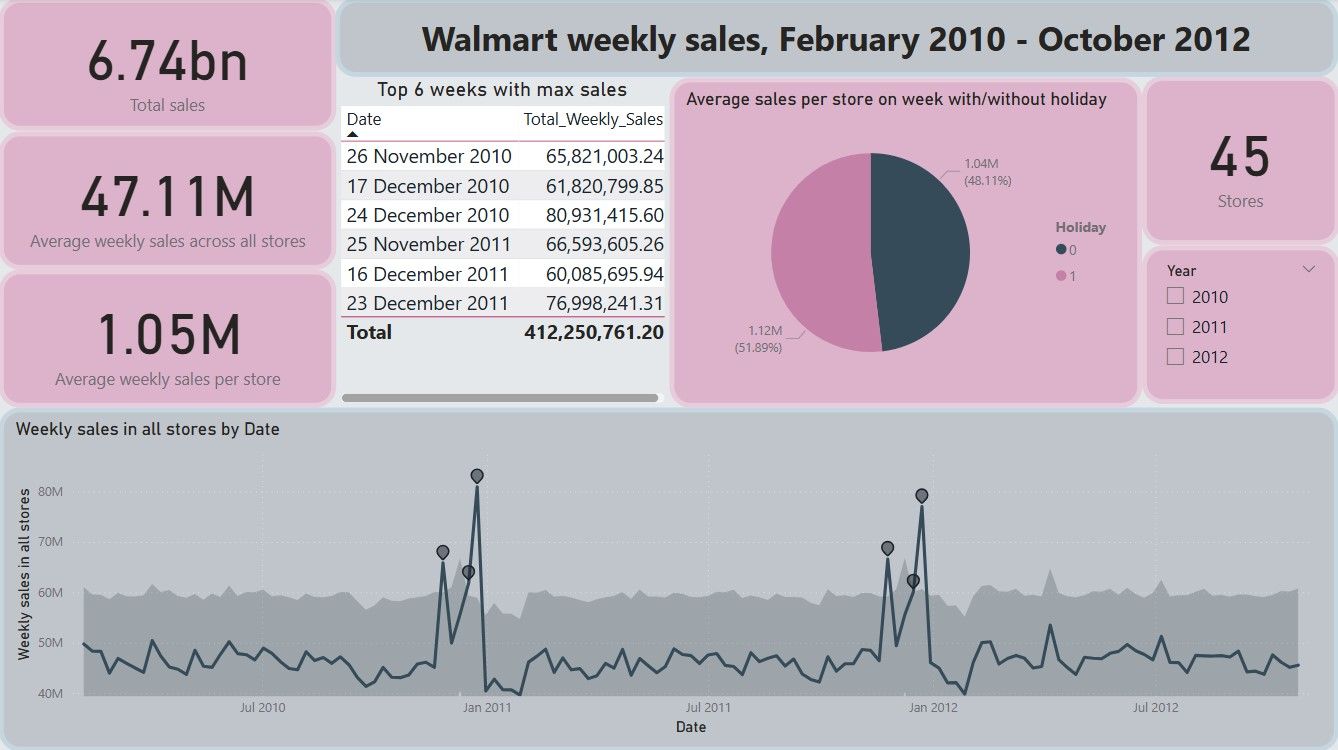

The dashboard page shown, as its layout file describes it:
{"tool":"powerbi","page":{"name":"Overview","canvas":[1280,720],"ordinal":0},"visuals":[{"type":"card","fields":{"Values":["Sum(Walmart_Sales.Weekly_Sales)"]},"box":[0,0,322.5,131.7],"z":0},{"type":"lineChart","fields":{"Y":["Sum(Walmart_Sales.Weekly_Sales)"],"Category":["Walmart_Sales.Date"]},"box":[151.4,422.5,1128.1,298.3],"z":1000},{"type":"card","fields":{"Values":["Avg(Walmart_Sales.Weekly_Sales)"]},"box":[0,275.6,322.5,146.9],"z":2000},{"type":"card","fields":{"Values":["Count(Walmart_Sales.Store)"]},"box":[0,423,150.9,149.5],"z":3000},{"type":"slicer","fields":{"Values":["Walmart_Sales.Date.Variation.Date Hierarchy.Year"]},"box":[0,572.4,151.4,146.9],"z":4000},{"type":"card","fields":{"Values":["Walmart_Sales.Avg_Weekly_Sales"]},"box":[0,131.7,322.5,143.8],"z":5000},{"type":"pieChart","title":"Average sales per store on holiday/non-holiday week","fields":{"Series":["Walmart_Sales.Holiday_Flag"],"Y":["Avg(Walmart_Sales.Weekly_Sales)"]},"box":[751,75.7,528.5,346.8],"z":6000},{"type":"textbox","box":[322.9,0,955.9,76.1],"z":7000},{"type":"tableEx","title":"Top 6 weeks with max sales","fields":{"Values":["Walmart_Sales.Date","Walmart_Sales.Total_Weekly_Sales"]},"box":[322.5,75.7,428.5,346.8],"z":8000}]}

Visuals, with their boxes in screenshot pixels (x1, y1, x2, y2), scaled from the page's 1280x720 canvas onto the 1338x750 screenshot:
card - Sum(Walmart_Sales.Weekly_Sales): bbox=(0, 0, 337, 137)
lineChart - Sum(Walmart_Sales.Weekly_Sales) x Walmart_Sales.Date: bbox=(158, 440, 1337, 749)
card - Avg(Walmart_Sales.Weekly_Sales): bbox=(0, 287, 337, 440)
card - Count(Walmart_Sales.Store): bbox=(0, 441, 158, 596)
slicer - Walmart_Sales.Date.Variation.Date Hierarchy.Year: bbox=(0, 596, 158, 749)
card - Walmart_Sales.Avg_Weekly_Sales: bbox=(0, 137, 337, 287)
"Average sales per store on holiday/non-holiday week" pieChart: bbox=(785, 79, 1337, 440)
textbox: bbox=(338, 0, 1337, 79)
"Top 6 weeks with max sales" tableEx: bbox=(337, 79, 785, 440)
